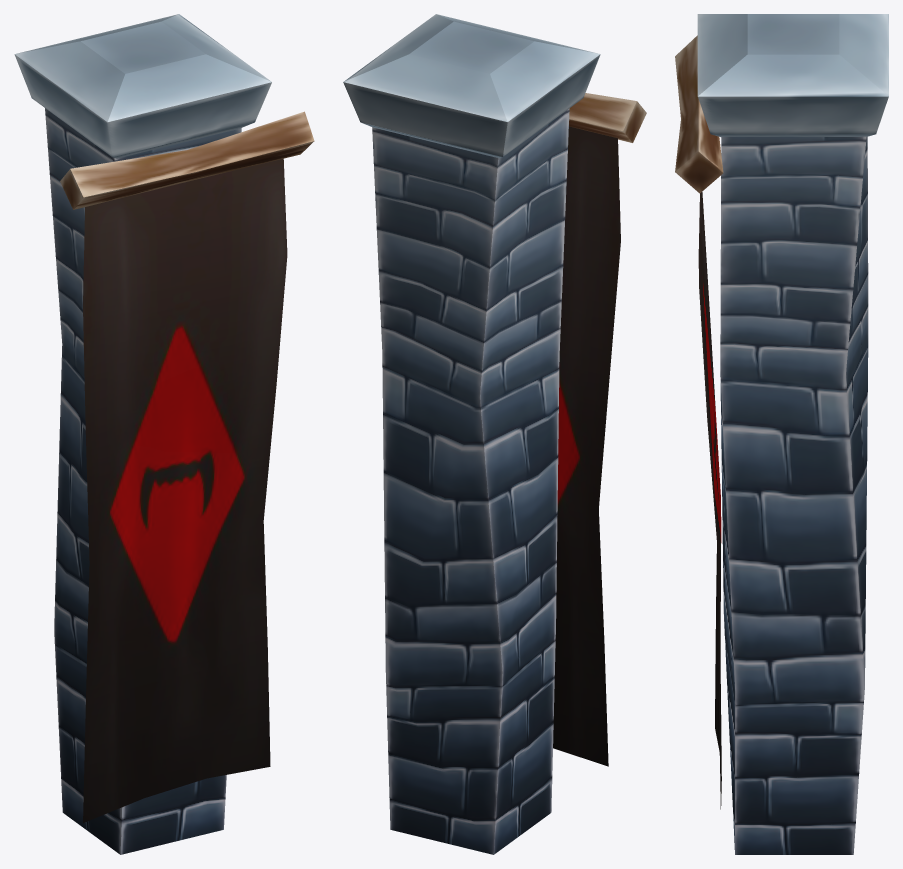
File: Vampire_Village_Props_22.FBX
3 renders of one model, left to right at view 1: azimuth 30°, elevation 25°; view 2: azimuth 150°, elevation 25°; view 3: azimuth 270°, elevation 25°, orthographic. The views are drawn at different scales.
Parts seen in each view (by area): view 1: Vampire_Village_Props_22; view 2: Vampire_Village_Props_22; view 3: Vampire_Village_Props_22.
Boxes of the visible parts, x1,y1,x2,y2 form: Vampire_Village_Props_22: (14,14,314,854); Vampire_Village_Props_22: (343,14,646,854); Vampire_Village_Props_22: (675,14,888,854).
Bounding box in the file's own units: 128 × 404 × 98.62.
